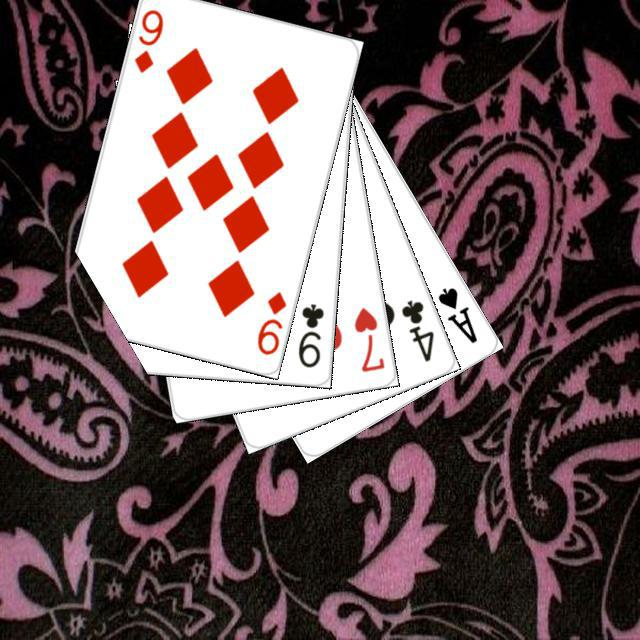4c: (396, 294, 436, 364)
7h: (349, 302, 386, 374)
9c: (293, 299, 326, 369)
9d: (252, 286, 288, 357), (129, 4, 165, 75)
As: (432, 282, 479, 346)
